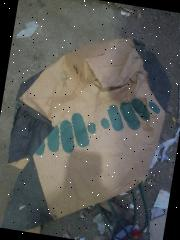paper: (0, 21, 177, 233), (16, 17, 38, 41), (152, 188, 169, 208)
